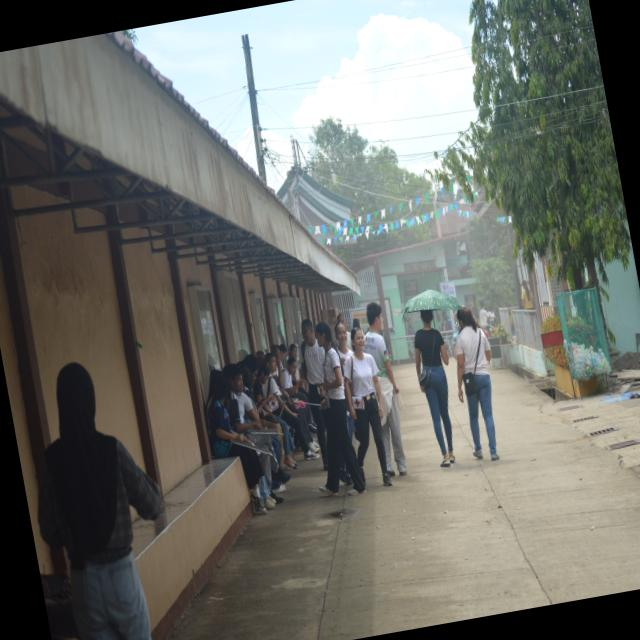person: (39, 363, 161, 639), (206, 370, 267, 514), (316, 321, 365, 495), (344, 328, 392, 486), (364, 303, 407, 476), (456, 307, 499, 461), (415, 310, 455, 467), (301, 319, 325, 404), (522, 281, 534, 310)
